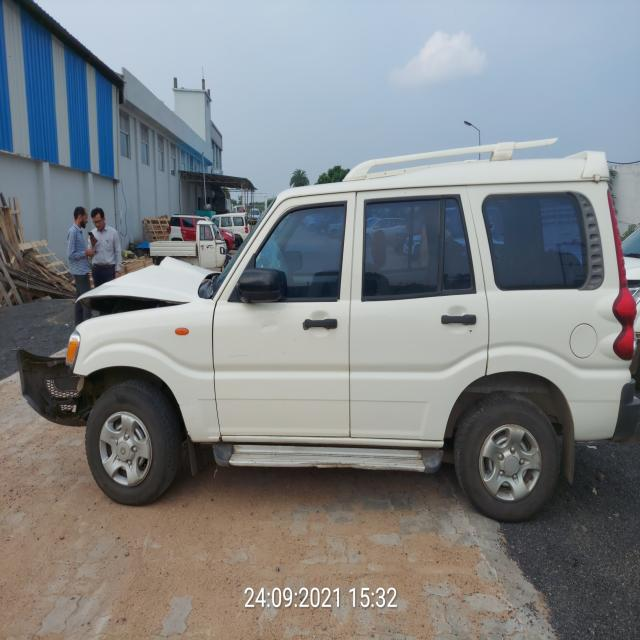damage: (69, 262, 213, 329), (11, 343, 89, 427)
